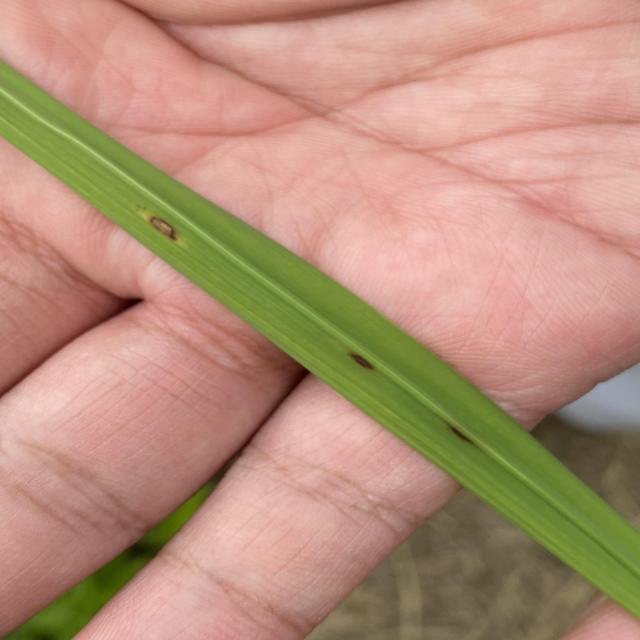Dom nau: (148, 214, 179, 241), (346, 351, 377, 373), (445, 424, 476, 445)
